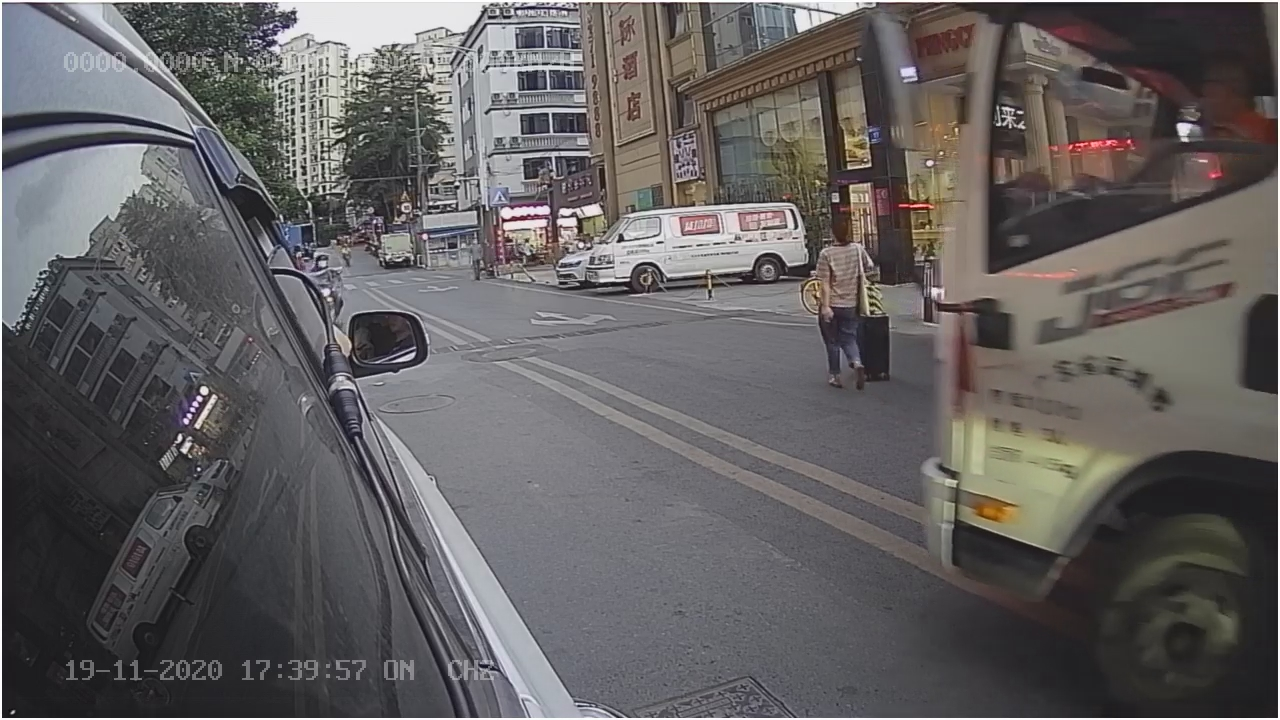person: (815, 216, 880, 397)
